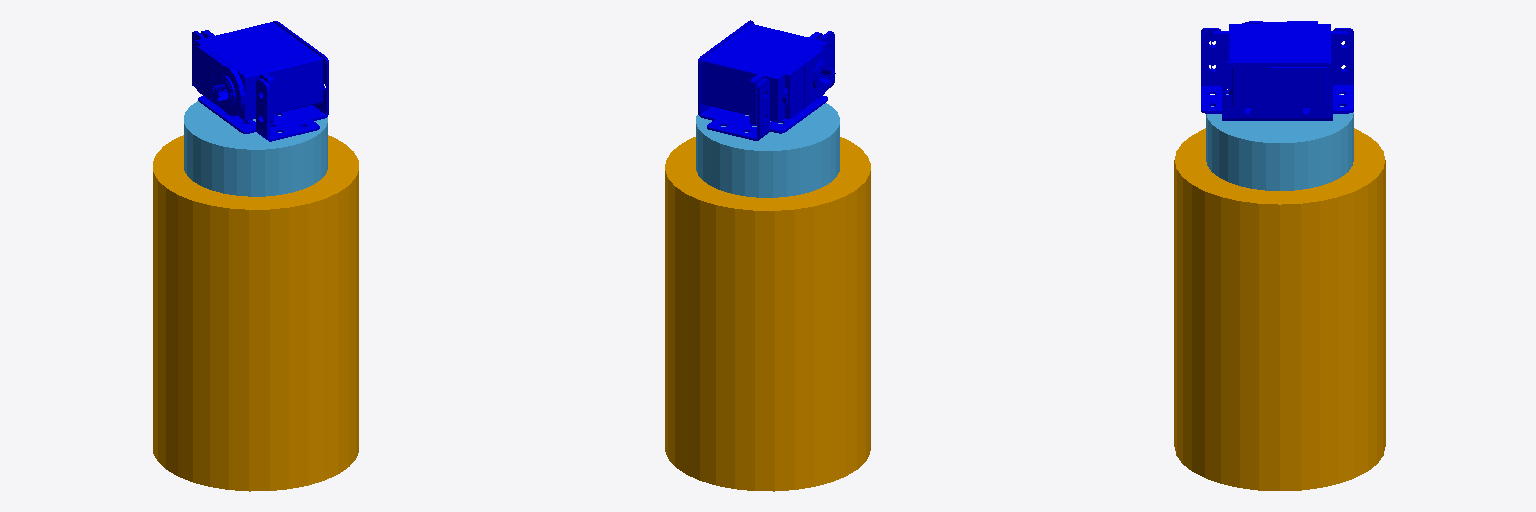
URDF robot description (telescope):
<?xml version="1.0"?>
<robot name="telescope">

  <link name="base_link">
    <visual>
      <geometry>
        <cylinder length="0.6" radius="0.2"/>
      </geometry>
    </visual>
    <collision>
      <geometry>
        <cylinder length="0.6" radius="0.2"/>
      </geometry>
    </collision>

  </link>

  <link name="base_link2">
    <visual>
      <geometry>
        <cylinder length="0.1" radius="0.14"/>
      </geometry>
    </visual>
    <collision>
      <geometry>
        <cylinder length="0.1" radius="0.14"/>
      </geometry>
    </collision>
  </link>

  <joint name="dummy_base_link_joint" type="fixed">
        <parent link="base_link" />
        <child link="base_link2" />
        <origin rpy="0 0 0" xyz="0 0 0.35" />
        <axis xyz="0 0 0" />
  </joint>


  <link name="azimuth_bracket">
        <visual>
            <geometry>
                <mesh filename="package://robotic_telescope/config/urdf/meshes/multi_functional_servo_bracket.stl" scale ="0.005 0.005 0.005"/>
            </geometry>
	    <!--
             <origin rpy="1.57 0  3.14156" xyz="0.1 -0.65  0.2"/>

             <origin rpy="0 -1.57 0" xyz="0.1 -0.1 0.2" />
             <origin rpy="1.57 0  3.14156" xyz="0.0 0.0 0.0"/>
	    --> 
             <origin rpy="1.57 0  3.14156" xyz="0.0 -0.15 -0.1"/>
             <material name="blue"> <color rgba="0 0 1 1"/> </material>
        </visual>
        <collision>
            <geometry>
		    <mesh filename="package://robotic_telescope/config/urdf/meshes/multi_functional_servo_bracket.stl" scale ="0.005 0.005 0.005"/>
            </geometry>
             <origin rpy="1.57 0  3.14156" xyz="0.0 -0.15 -0.1"/>
        </collision>
  </link>


    <link name="azimuth_servo">
        <visual>
            <geometry>
                 <mesh filename="package://robotic_telescope/config/urdf/meshes/mg996r_servo.stl" scale ="0.005  0.005 0.005"/>
            </geometry>
	    <!--
             <origin rpy="0 0 3.1415" xyz="-0.05 0.15  0.0"/>
	    -->
             <origin rpy="0 0 3.1415" xyz="-0.05 0.0 -0.1"/>
             <material name="blue"> <color rgba="0 0 1 1"/> </material>
        </visual>
        <collision>
           <geometry>
                 <mesh filename="package://robotic_telescope/config/urdf/meshes/mg996r_servo.stl" scale ="0.005  0.005 0.005"/>
            </geometry>
             <origin rpy="0 0 3.1415" xyz="-0.05 0.15  0.0"/>
        </collision>
    </link>

   <joint name="azimuth_servo_joint_dummy" type="fixed">
        <origin rpy="0 0 0" xyz="0.0 0 0.0" />
        <parent link="azimuth_bracket" />
        <child link="azimuth_servo" />
        <axis xyz="0 0 0" />
    </joint>


  <joint name="az_joint" type="revolute">
    <safety_controller k_position="100.0" k_velocity="40.0" soft_lower_limit="-1.57" soft_upper_limit="1.57" />
    <limit effort="87" lower="-1.571" upper="1.571" velocity="2.3925" />
        <parent link="base_link2" />
        <child link="azimuth_bracket" />
	<!--
        <origin rpy="0 -1.57 0" xyz="0.1 -0.15 0.2" />
	-->
        <origin rpy="0 -1.57 0" xyz="0.0 0.0 0.2" />
        <axis xyz="1 0 0" />
  </joint>




    <!--
  <link name="azimuth_link">
    <visual>
      <geometry>
        <cylinder length="0.03" radius="0.03"/>
      </geometry>
      <material name="Cyan">
        <color rgba="0 1.0 1.0 1.0"/>
      </material>
    </visual>

    <collision>
      <geometry>
        <cylinder length="0.03" radius="0.03"/>
      </geometry>
    </collision>

  </link>


  <joint name="az_joint" type="revolute">
    <safety_controller k_position="100.0" k_velocity="40.0" soft_lower_limit="-1.57" soft_upper_limit="1.57" />
    <limit effort="87" lower="-1.571" upper="1.571" velocity="2.3925" />
        <parent link="base_link2" />
        <child link="azimuth_link" />
        <origin rpy="0 0 0" xyz="0 0 0.05" />
        <axis xyz="0 0 1" />
  </joint>

    -->


  
  <link name="el_link">
    <visual>
      <geometry>
        <mesh filename="package://robotic_telescope/config/urdf/meshes/u_bracket.stl" scale ="0.0004 0.0004 0.0004"/>
      </geometry>
      <material name="green"> <color rgba="0.0 1.0 0.2 1.0"/> </material>
    </visual>
    <collision>
      <geometry>
        <mesh filename="package://robotic_telescope/config/urdf/meshes/u_bracket.stl" scale ="0.0004 0.0004 0.0004"/>
      </geometry>
    </collision>
  </link>
  


  <joint name="el_joint" type="revolute">
    <safety_controller k_position="100.0" k_velocity="40.0" soft_lower_limit="-1.57" soft_upper_limit="1.57" />
    <limit effort="87" lower="-1.571" upper="1.571" velocity="2.3925" />
    <!--
        <parent link="azimuth_link" />
        <origin rpy="1.57 0 0" xyz="0 0 0.05" />
    --> 
        <parent link="azimuth_servo" />
        <child link="el_link" />
        <origin rpy="1.57 1.57 0" xyz="-0.05 -0.05 0.04" />
        <axis xyz="1 0 0" />
  </joint>



  <link name="eef_link" />

  <joint name="eef_joint" type="revolute">
    <safety_controller k_position="100.0" k_velocity="40.0" soft_lower_limit="-1.57" soft_upper_limit="1.57" />
    <limit effort="87" lower="-1.571" upper="1.571" velocity="2.3925" />
        <parent link="el_link" />
        <child link="eef_link" />
        <origin rpy="0 0 0" xyz="0 0.3 0.0" />
        <axis xyz="0 1 0" />
  </joint>



  <!--

  <link name="el_dummy">
    <visual>
      <geometry>
        <cylinder length="0.2" radius="0.01"/>
      </geometry>
      <material name="Green">
        <color rgba="0.0 1.0 0.2 1.0"/>
      </material>
    </visual>
    <collision>
      <geometry>
        <cylinder length="0.2" radius="0.01"/>
      </geometry>
    </collision>
  </link>


  <joint name="el_dummy_joint" type="fixed">
        <parent link="el_link" />
        <child link="el_dummy" />
        <origin rpy="1.57 0 0" xyz="0.0 0.1 0.0" />
        <axis xyz="0 0 0" />
  </joint>

  -->


</robot>

--- What the picture shows (computed from the rendered views, not written in the file) ---
The picture shows the robot from 3 angles, left to right: view 1: azimuth 30°, elevation 25°; view 2: azimuth 150°, elevation 25°; view 3: azimuth 270°, elevation 25°; orthographic projection.
Robot: telescope — 6 links, 5 joints (3 revolute, 2 fixed); root link base_link; default pose: every joint at zero.
Links seen in each view (by area): view 1: base_link, base_link2, azimuth_servo, azimuth_bracket; view 2: base_link, base_link2, azimuth_servo, azimuth_bracket; view 3: base_link, base_link2, azimuth_servo, azimuth_bracket.
Link boxes in pixels (x1,y1,x2,y2): base_link: [153, 135, 358, 491]; base_link2: [184, 101, 327, 196]; azimuth_servo: [195, 22, 323, 122]; azimuth_bracket: [192, 21, 328, 141]; base_link: [665, 137, 870, 491]; base_link2: [696, 103, 839, 197]; azimuth_servo: [701, 24, 835, 124]; azimuth_bracket: [698, 20, 834, 140]; base_link: [1174, 128, 1385, 490]; base_link2: [1206, 94, 1353, 190]; azimuth_servo: [1211, 21, 1348, 107]; azimuth_bracket: [1201, 28, 1353, 120].
Bounding box of the posed robot: 0.4 × 0.4 × 0.8501 m (x, y, z).
2 mesh visuals loaded from 3 distinct referenced files (2 binary STL); not drawn: 1 (reference not matched to a file when rendering).